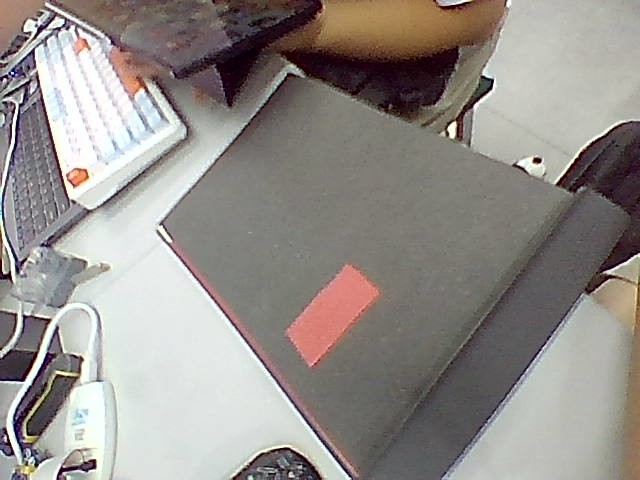card: (287, 264, 379, 367)
